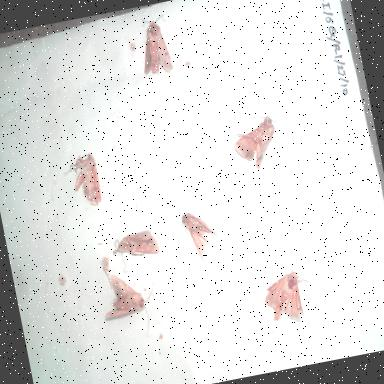abw: (96, 264, 174, 338), (225, 103, 300, 176), (254, 254, 322, 332), (130, 8, 186, 82), (173, 202, 230, 274), (56, 148, 108, 216), (106, 213, 164, 266)
